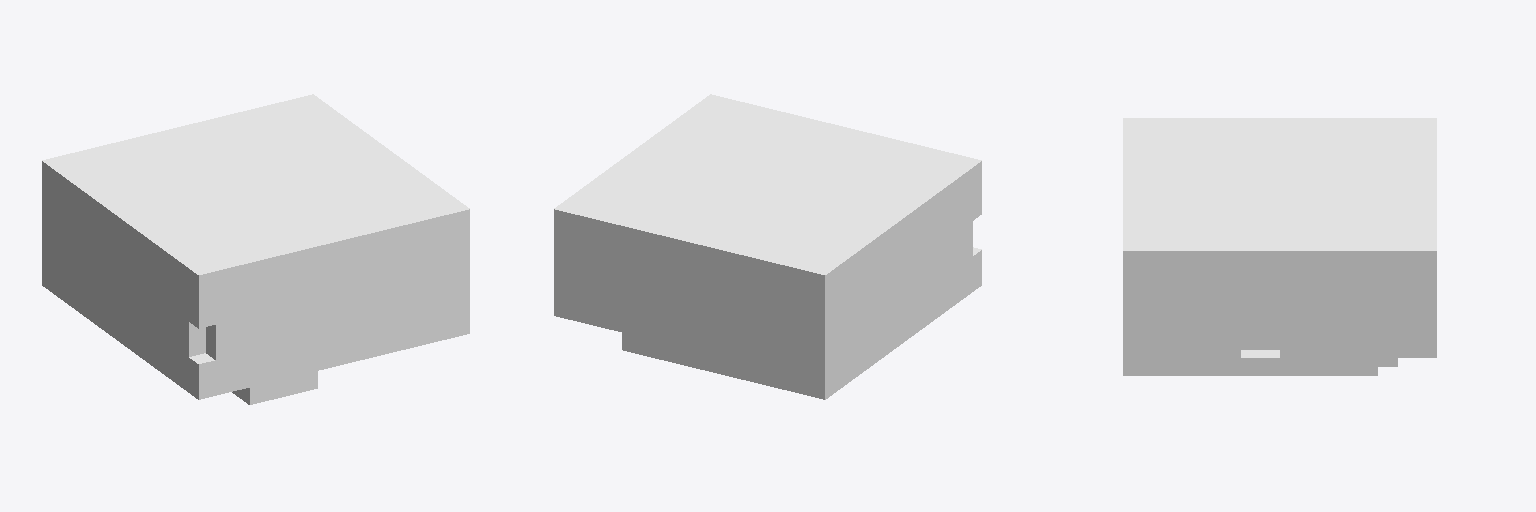
File: Tile.obj
The picture shows the model from 3 angles: view 1: azimuth 30°, elevation 25°; view 2: azimuth 150°, elevation 25°; view 3: azimuth 270°, elevation 25°; orthographic projection.
Parts seen in each view (by area): view 1: object 1; view 2: object 1; view 3: object 1.
Part boxes in pixels (x1,y1,x2,y2): object 1: (42,94,469,404); object 1: (554,94,981,399); object 1: (1123,118,1436,375).
Size of the model in its own units: 1.6 by 0.8 by 1.6.